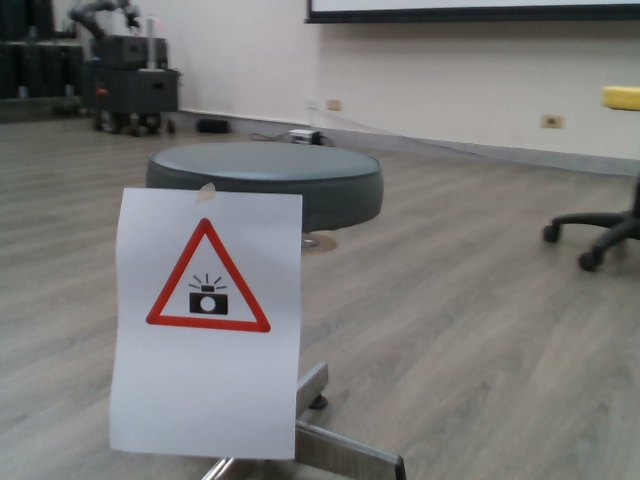camera: (139, 215, 273, 339)
